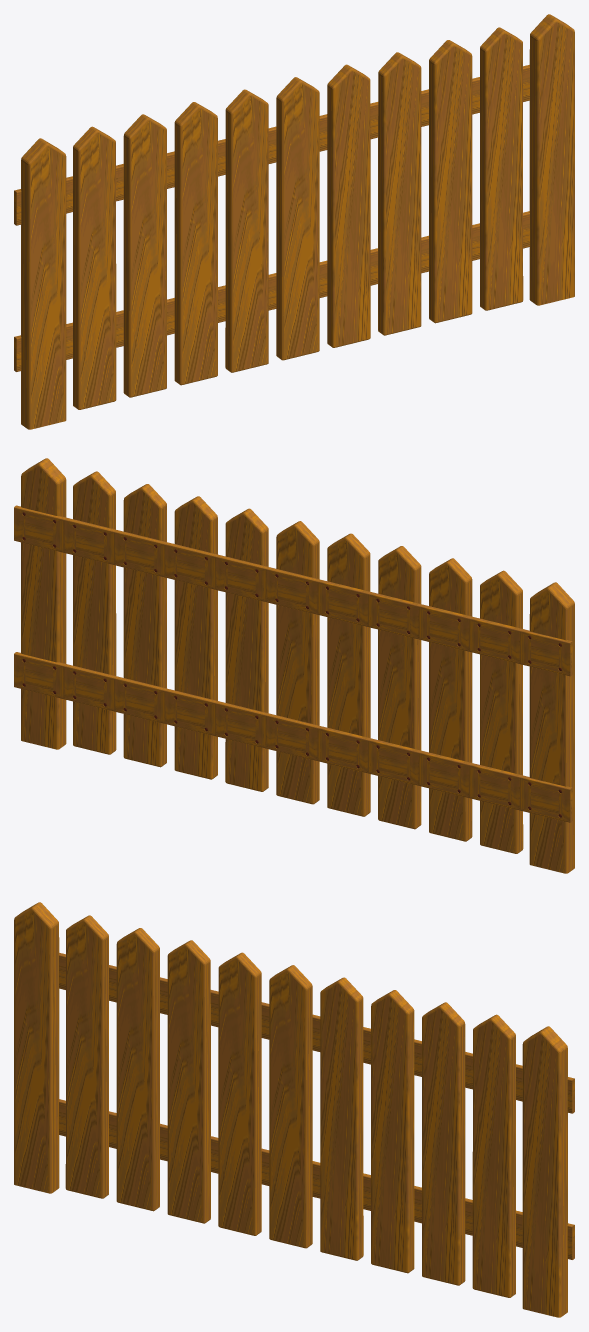
The model's file is logwall_fence.fbx.
3 views of the same model, one above another, from view 1: azimuth 30°, elevation 25°; view 2: azimuth 150°, elevation 25°; view 3: azimuth 330°, elevation 25° (orthographic).
Parts seen in each view (by area): view 1: height_fence, width_fence, width_fence.001; view 2: height_fence, width_fence.001, width_fence; view 3: height_fence, width_fence, width_fence.001.
Boxes of the visible parts, bbox=[...] form: height_fence: bbox=[21, 14, 574, 429]; width_fence: bbox=[14, 65, 529, 225]; width_fence.001: bbox=[14, 211, 529, 371]; height_fence: bbox=[21, 458, 574, 873]; width_fence.001: bbox=[14, 652, 572, 822]; width_fence: bbox=[14, 505, 572, 676]; height_fence: bbox=[14, 902, 567, 1317]; width_fence: bbox=[59, 953, 574, 1113]; width_fence.001: bbox=[59, 1099, 574, 1259].
Bounding box in the file's own units: 1093 × 528 × 35.16.
